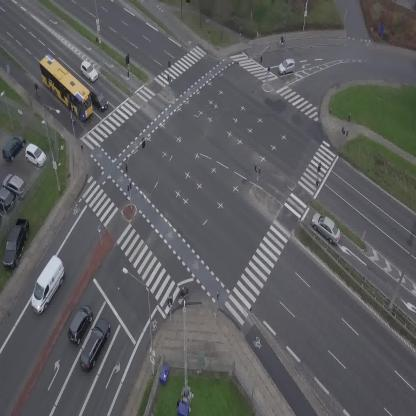bicycle: (175, 285, 191, 300), (33, 83, 40, 96), (277, 35, 285, 46)
bus: (31, 52, 102, 123)
car: (75, 315, 115, 374), (62, 302, 97, 346), (306, 210, 346, 247), (86, 86, 111, 114), (76, 59, 101, 84), (276, 57, 298, 76)
lorry: (22, 254, 73, 317)
